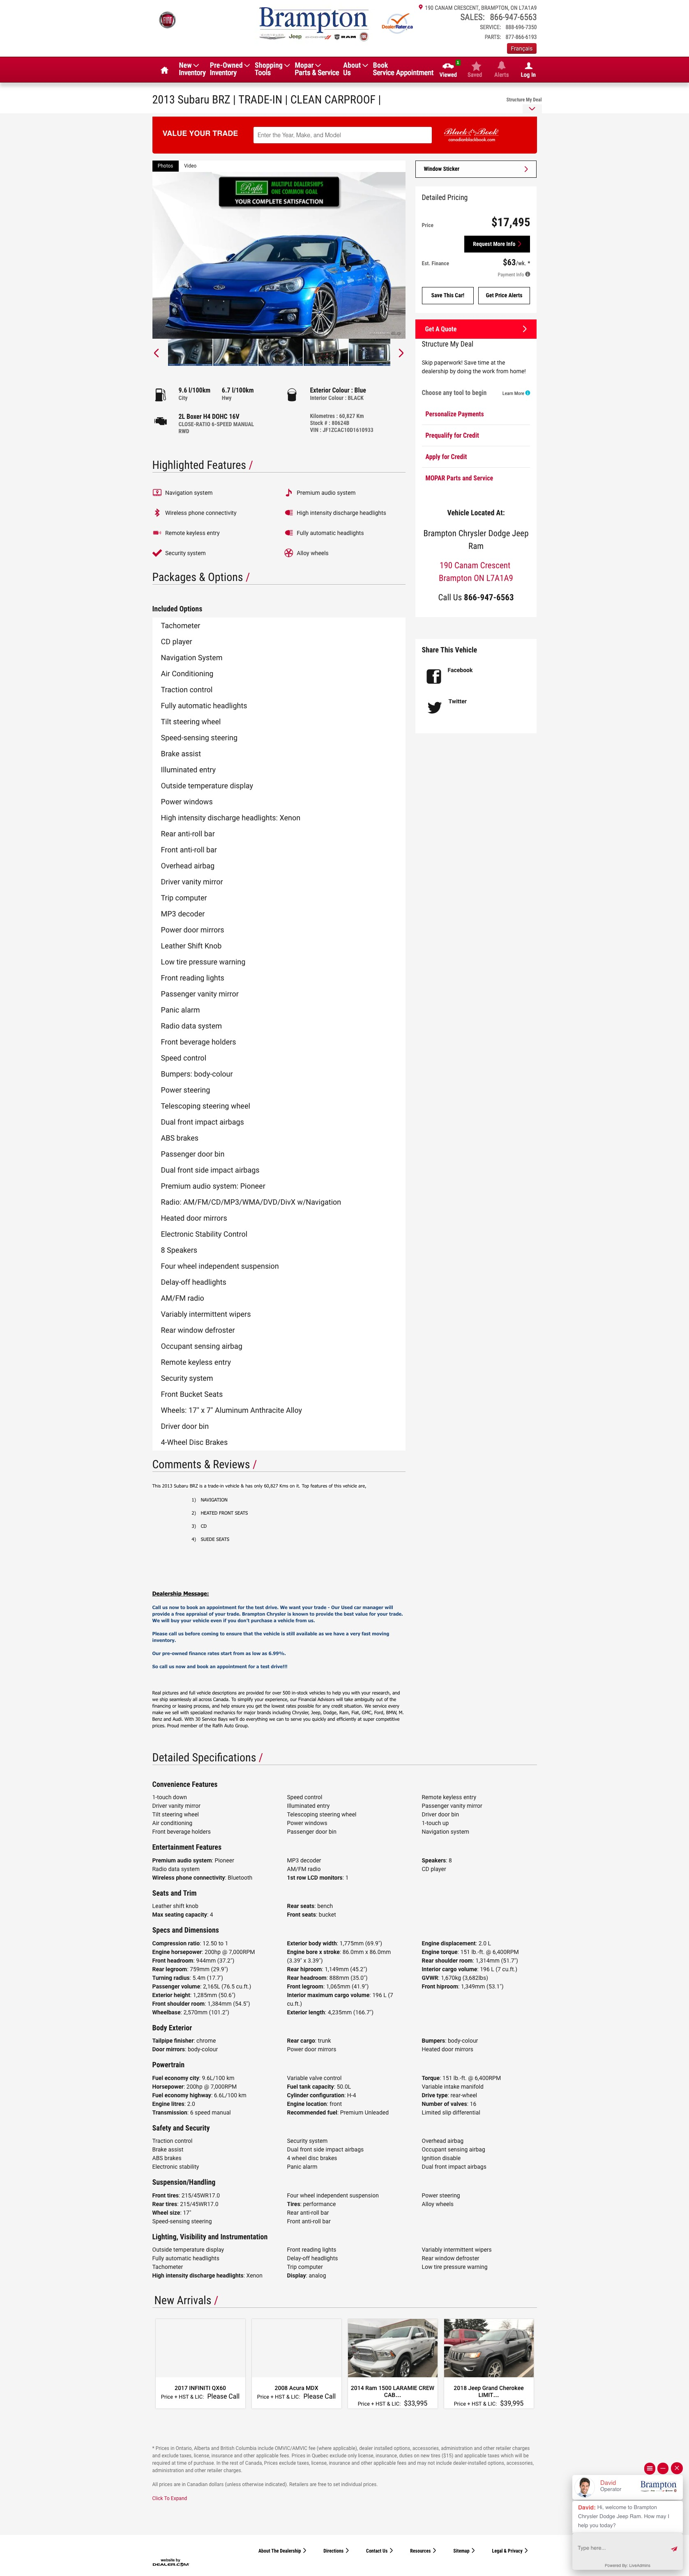car: (398, 348, 406, 358)
